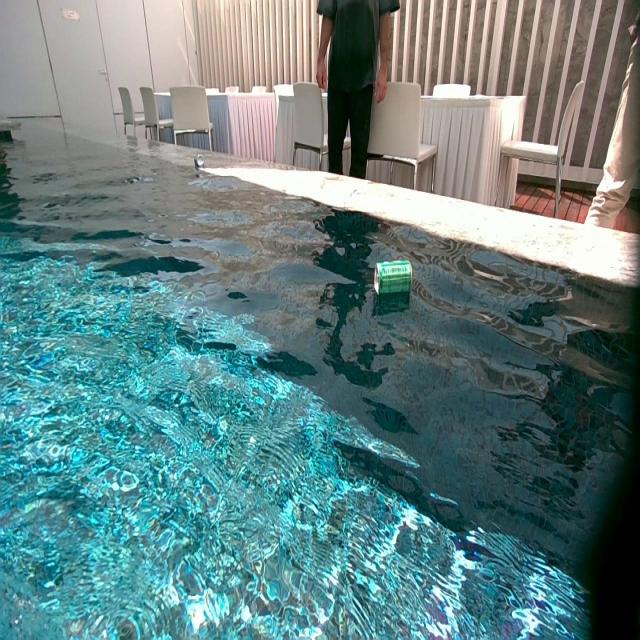Cans: (373, 260, 411, 299), (193, 155, 204, 169)
